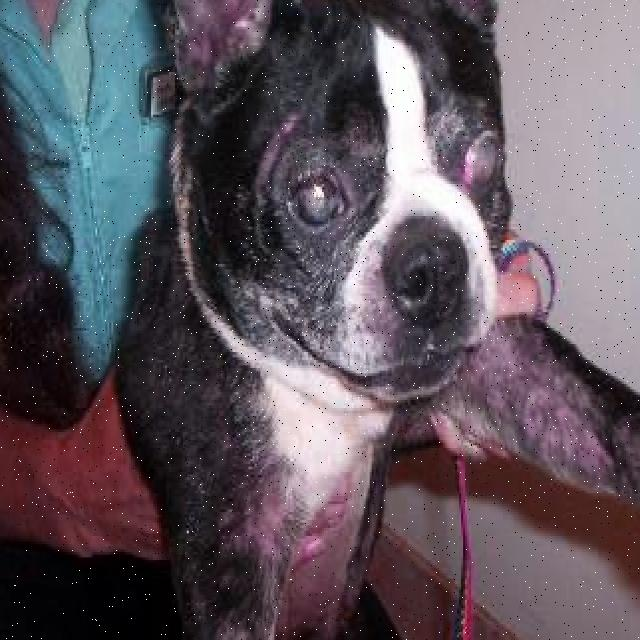Dog: (143, 0, 575, 435)
